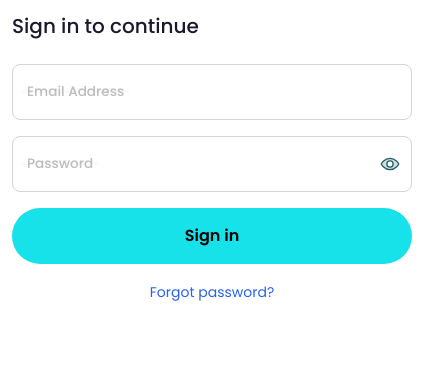
Test: GuestSignIn › input handling › shows validation error when password is empty on submit
Type "test@example.com" into the field. click: (212, 92)
box: x1=12 y1=64 x2=412 y2=120
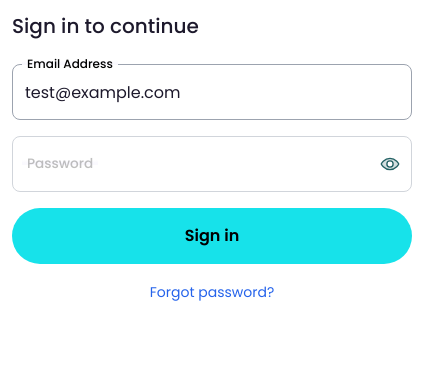
Click the button "Sign in". click: (212, 236)
box: x1=12 y1=208 x2=412 y2=264
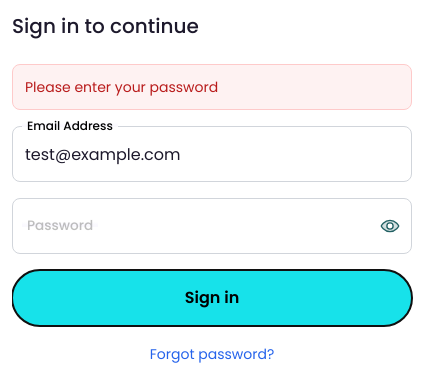
Result: the text "Please enter your password" is shown at x1=25 y1=77 x2=218 y2=97
